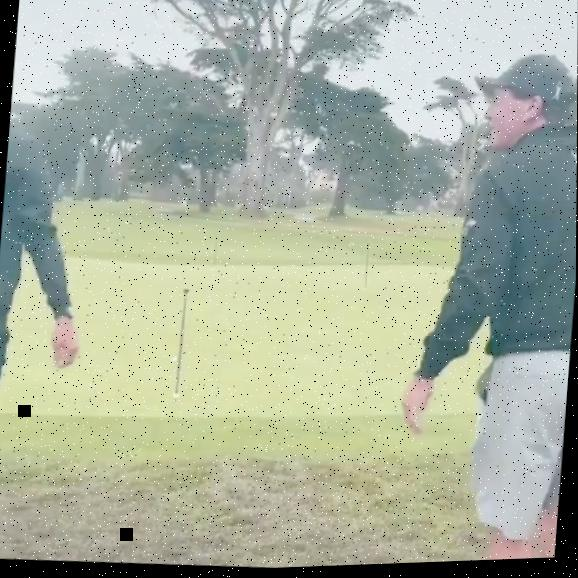GolfBall: (171, 358, 177, 363)
